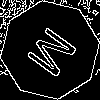M: (25, 25, 87, 86)
